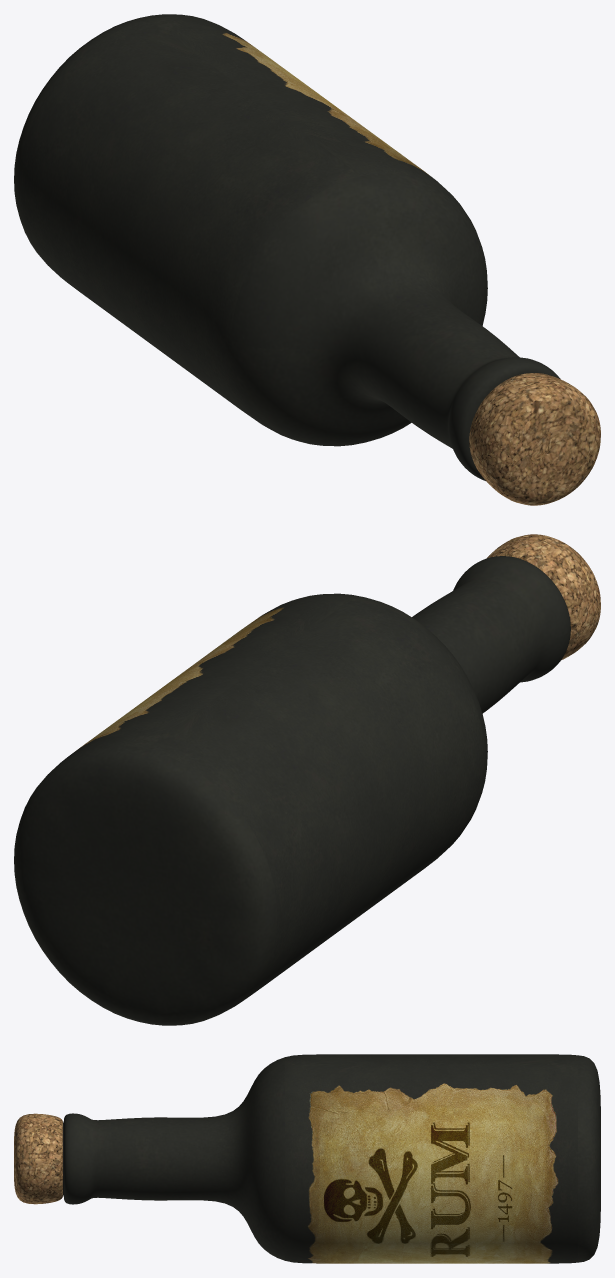
Rendered from 14056_Bottle_of_Rum_v1_L2.obj.
The picture shows the model from 3 angles, top to bottom: view 1: azimuth 30°, elevation 25°; view 2: azimuth 150°, elevation 25°; view 3: azimuth 270°, elevation 25°; orthographic projection. The views are drawn at different scales.
Parts seen in each view (by area): view 1: bottle; view 2: bottle; view 3: bottle.
Boxes of the visible parts, x1,y1,x2,y2 form: bottle: [14, 14, 600, 505]; bottle: [14, 534, 600, 1025]; bottle: [14, 1054, 600, 1263].
Size of the model in its own units: 4.69 by 4.69 by 13.16.
Materials: 1 (1 with a texture image).
